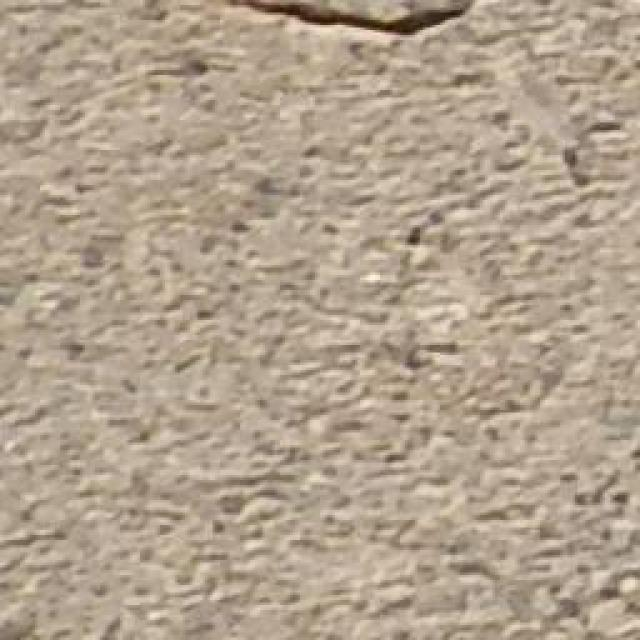concrete-crack: (227, 0, 477, 45)
